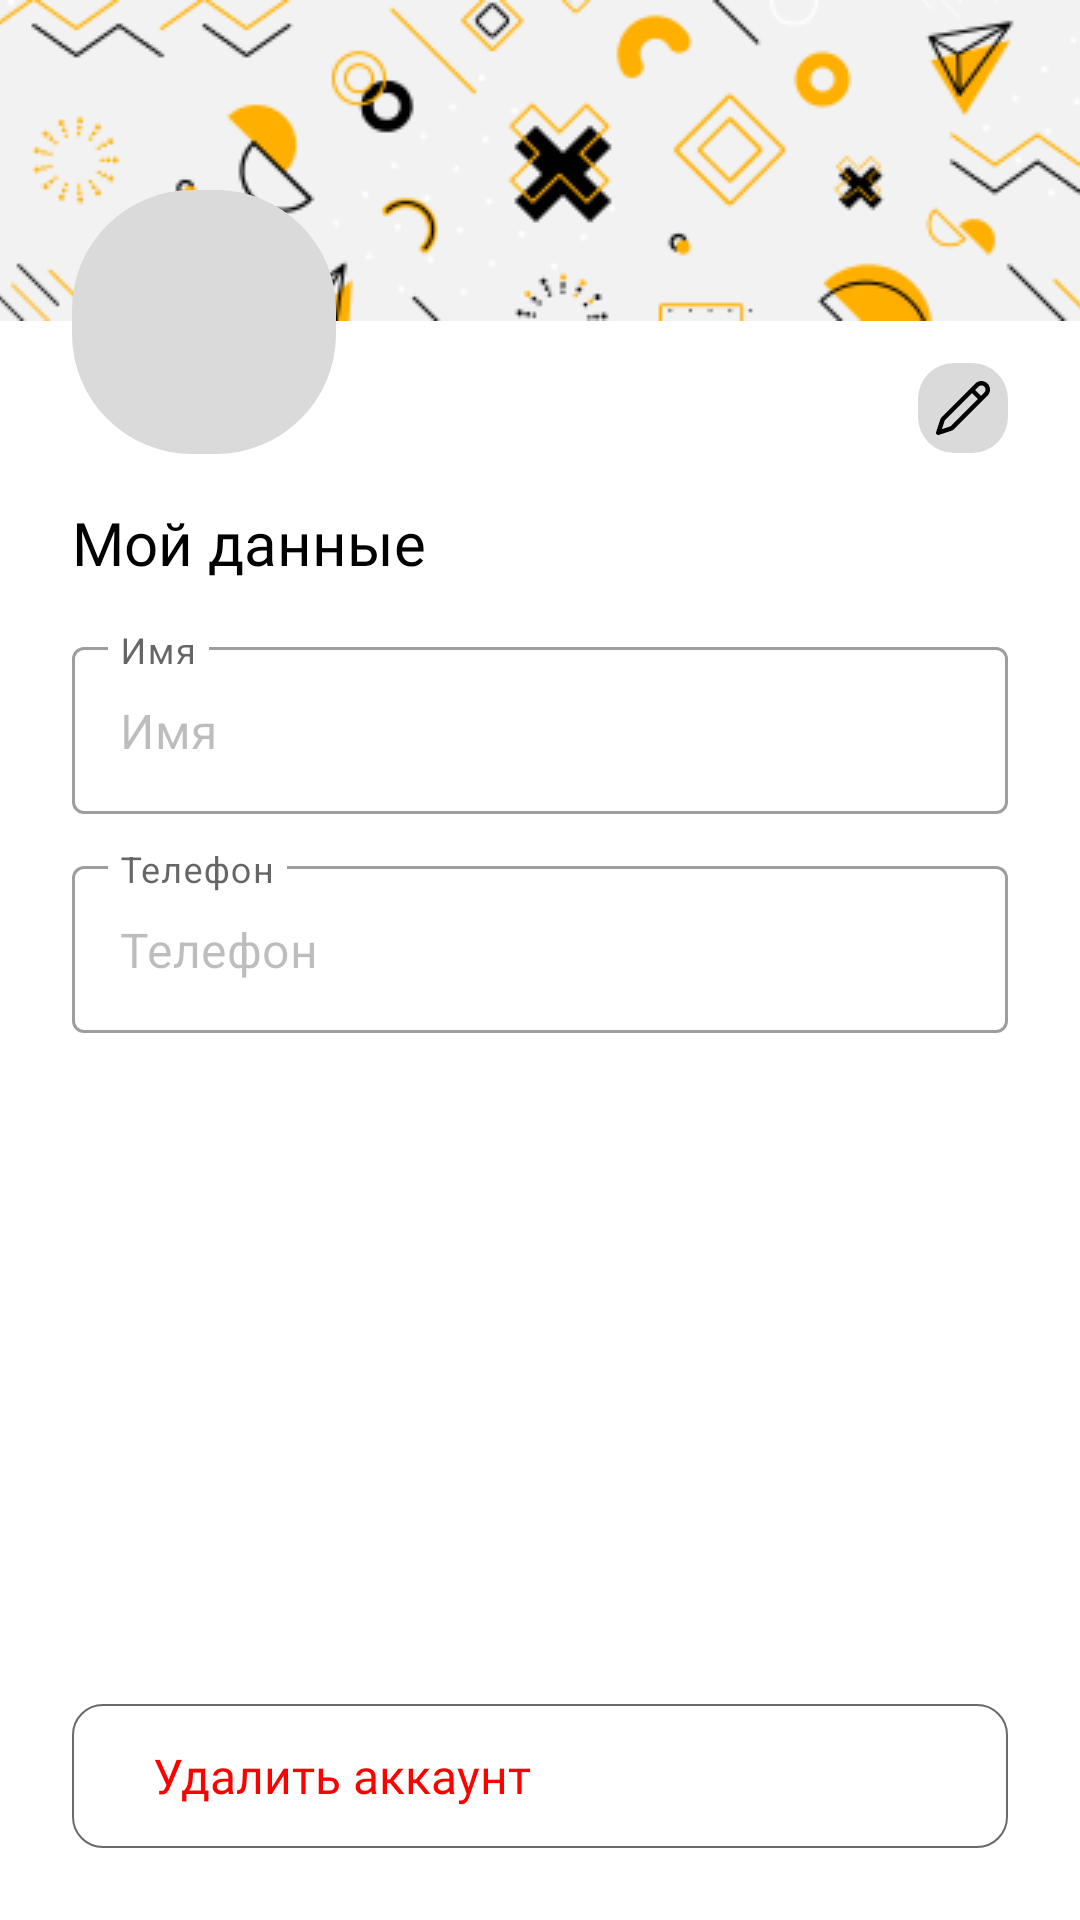

Icon bounding boxes for this 1080 x 1920 phone screenshot, format detection(x1, y1, x2, y2):
edit: detection(918, 363, 1008, 453)
